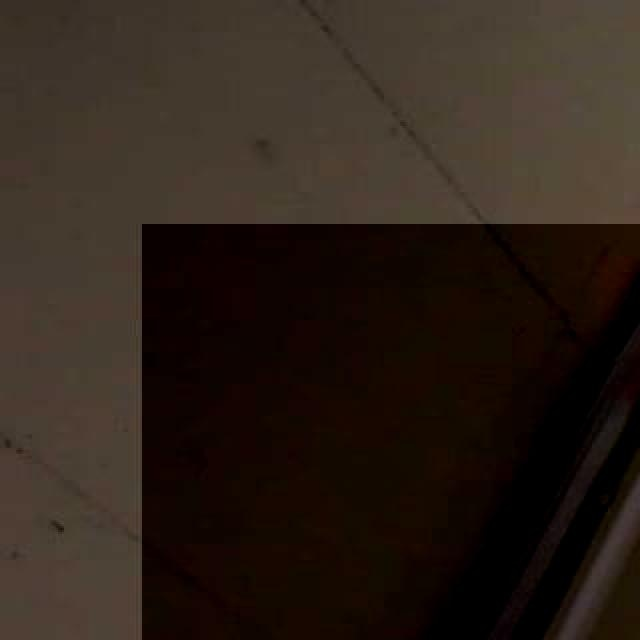fluorescent tube: (220, 240, 640, 640)
